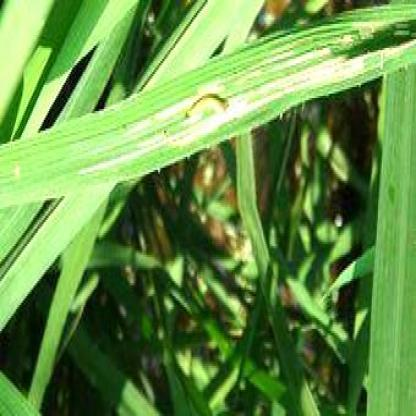leaf-folder: (182, 84, 236, 128)
